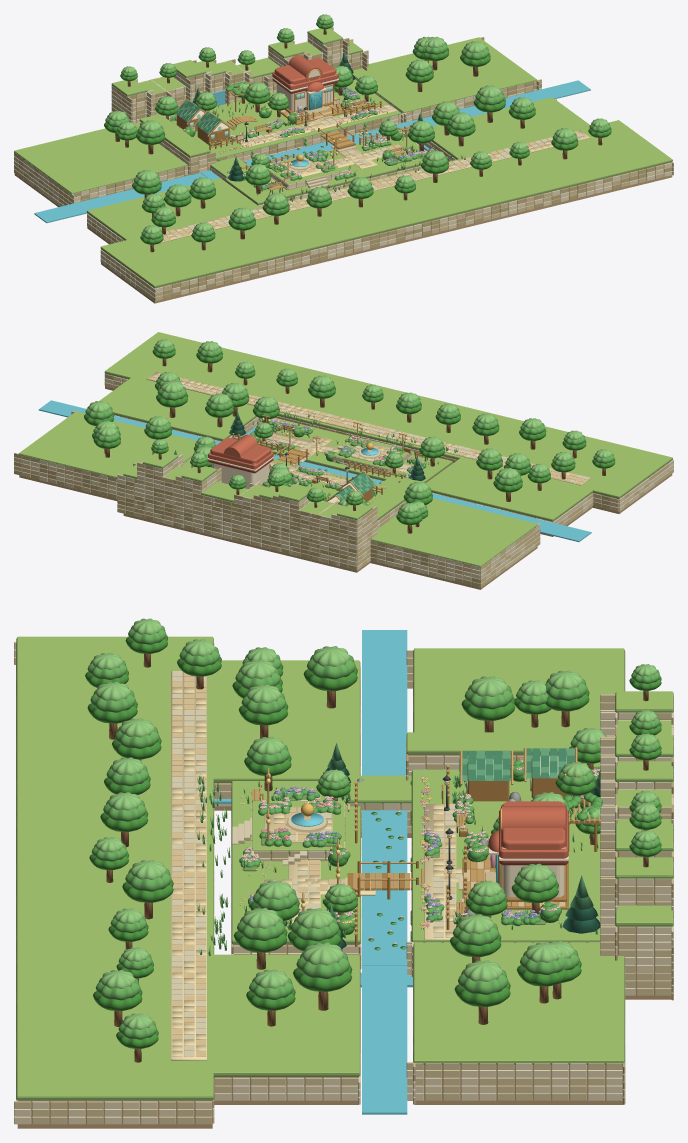
Rendered from town.glb.
3 views of the same model, one above another, from view 1: azimuth 30°, elevation 25°; view 2: azimuth 150°, elevation 25°; view 3: azimuth 270°, elevation 25° (orthographic). The views are drawn at different scales.
Parts seen in each view (by area): view 1: Town_grass, Town_stoneLight, Town_stone, Town_leafLight, Town_leafDark, Town_leaf, Town_stoneDark, Town_water, Town_earth, Town_grassEdge, Town_sand, Town_hedge (+10 smaller); view 2: Town_grass, Town_stoneLight, Town_stone, Town_stoneDark, Town_leafLight, Town_leaf, Town_leafDark, Town_earth, Town_sand, Town_water, Town_grassEdge, Town_hedge (+8 smaller); view 3: Town_grass, Town_stoneLight, Town_leafLight, Town_water, Town_leaf, Town_leafDark, Town_stone, Town_sand, Town_hedge, Town_path, Town_grassEdge, Town_earth (+13 smaller).
Part boxes in pixels (x1,y1,x2,y2): Town_grass: [14, 28, 672, 286]; Town_stoneLight: [14, 34, 673, 297]; Town_stone: [14, 27, 673, 301]; Town_leafLight: [108, 14, 608, 234]; Town_leafDark: [104, 21, 611, 244]; Town_leaf: [105, 17, 610, 239]; Town_stoneDark: [73, 37, 672, 298]; Town_water: [34, 80, 590, 223]; Town_earth: [14, 44, 672, 303]; Town_grassEdge: [14, 32, 672, 287]; Town_sand: [159, 104, 589, 243]; Town_hedge: [169, 82, 465, 201]; Town_grass: [19, 332, 672, 566]; Town_stoneLight: [22, 374, 673, 580]; Town_stone: [14, 378, 673, 587]; Town_stoneDark: [14, 374, 610, 587]; Town_leafLight: [89, 339, 611, 513]; Town_leaf: [85, 343, 614, 519]; Town_leafDark: [84, 349, 615, 525]; Town_earth: [19, 373, 672, 589]; Town_sand: [146, 371, 590, 485]; Town_water: [38, 400, 591, 541]; Town_grassEdge: [19, 372, 672, 567]; Town_hedge: [210, 411, 458, 505]; Town_grass: [17, 636, 672, 1097]; Town_stoneLight: [14, 641, 673, 1124]; Town_leafLight: [92, 618, 657, 1029]; Town_water: [214, 630, 412, 1114]; Town_leaf: [87, 625, 660, 1039]; Town_leafDark: [85, 635, 661, 1048]; Town_stone: [14, 643, 673, 1124]; Town_sand: [171, 671, 462, 1060]; Town_hedge: [198, 760, 602, 955]; Town_path: [172, 672, 565, 1056]; Town_grassEdge: [16, 638, 673, 1100]; Town_earth: [17, 713, 671, 1128].
Bounding box in the file's own units: 82 × 11.22 × 47.38.
